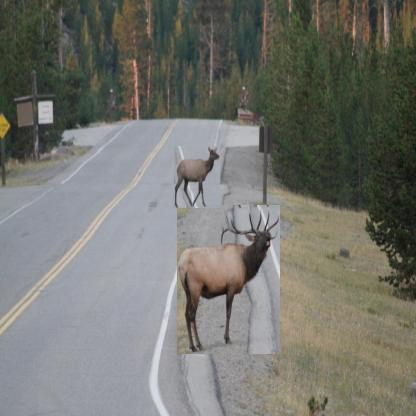Deer: (177, 205, 280, 354), (174, 146, 220, 208)
